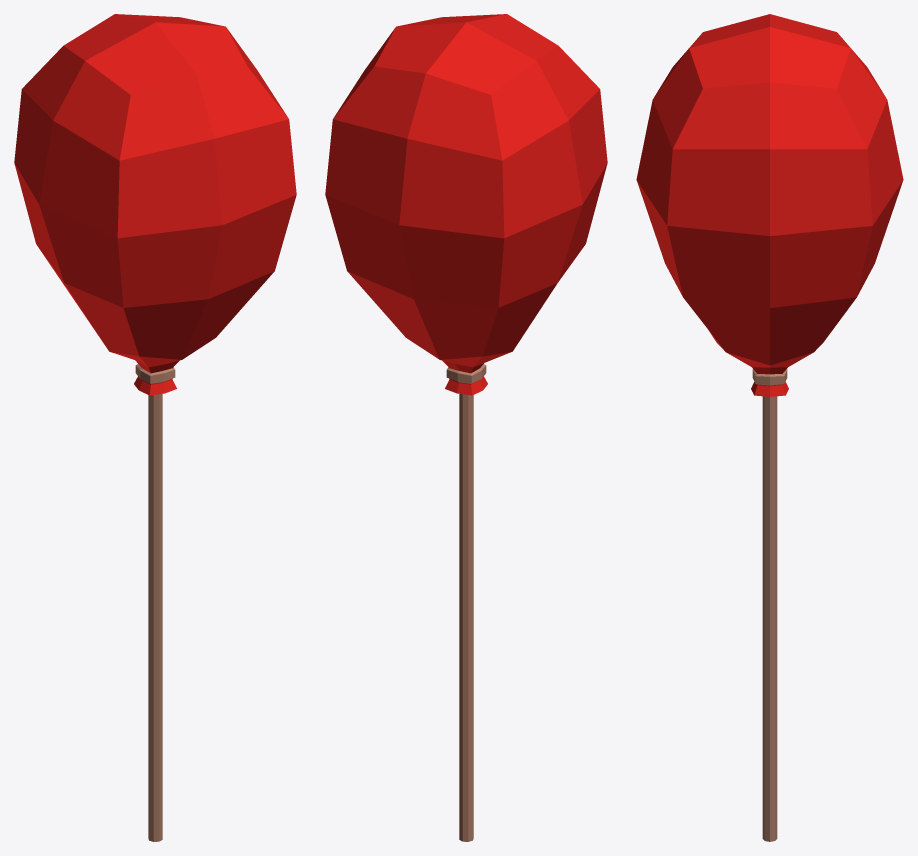
Rendered from MageHunter - Balloon.fbx.
3 views of the same model, side by side, from view 1: azimuth 30°, elevation 25°; view 2: azimuth 150°, elevation 25°; view 3: azimuth 270°, elevation 25° (orthographic).
Visible parts, largest first — view 1: Cube, Plane; view 2: Cube, Plane; view 3: Cube, Plane.
Boxes of the visible parts, x1,y1,x2,y2 form: Cube: (14,14,296,395); Plane: (148,394,162,841); Cube: (325,14,607,395); Plane: (459,394,473,841); Cube: (636,14,903,396); Plane: (762,396,777,841).
Bounding box in the file's own units: 203 × 680 × 203.
